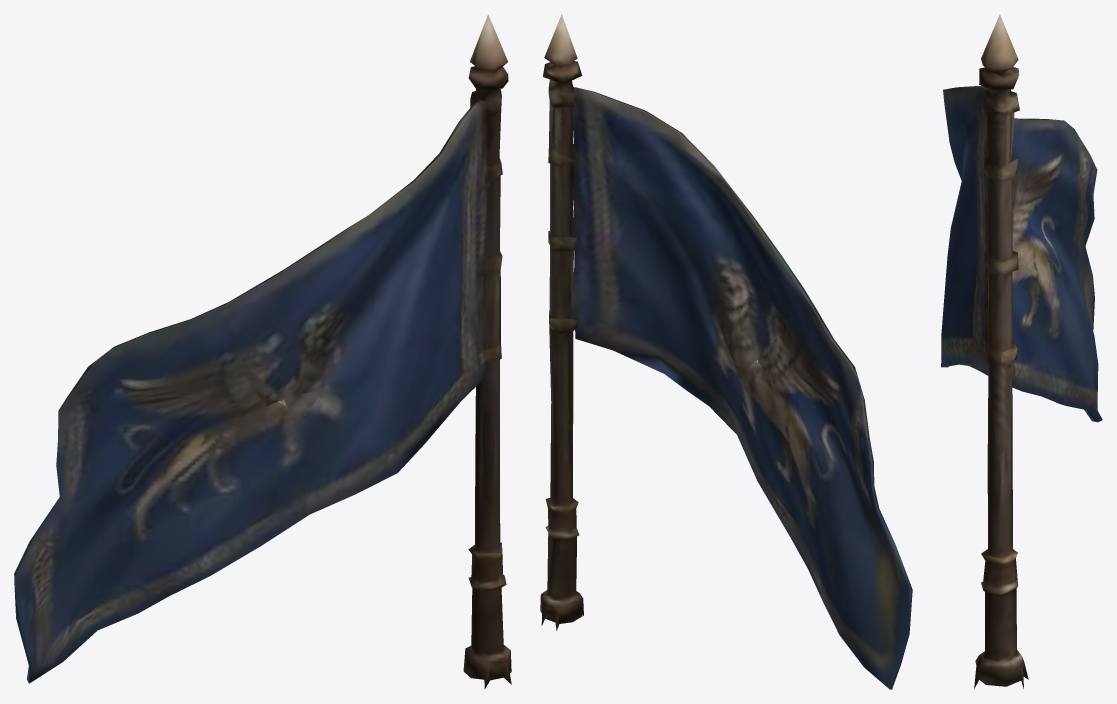
File: street.glb
The picture shows the model from 3 angles, left to right: view 1: azimuth 30°, elevation 25°; view 2: azimuth 150°, elevation 25°; view 3: azimuth 270°, elevation 25°; orthographic projection. The views are drawn at different scales.
Parts seen in each view (by area): view 1: flag; view 2: flag; view 3: flag.
Part boxes in pixels (<box>): flag: <box>14,14,511,689</box>; flag: <box>540,14,912,689</box>; flag: <box>941,14,1102,688</box>.
Bounding box in the file's own units: 0.2498 × 0.3531 × 0.0772.
Materials: 1 (1 with a texture image).
